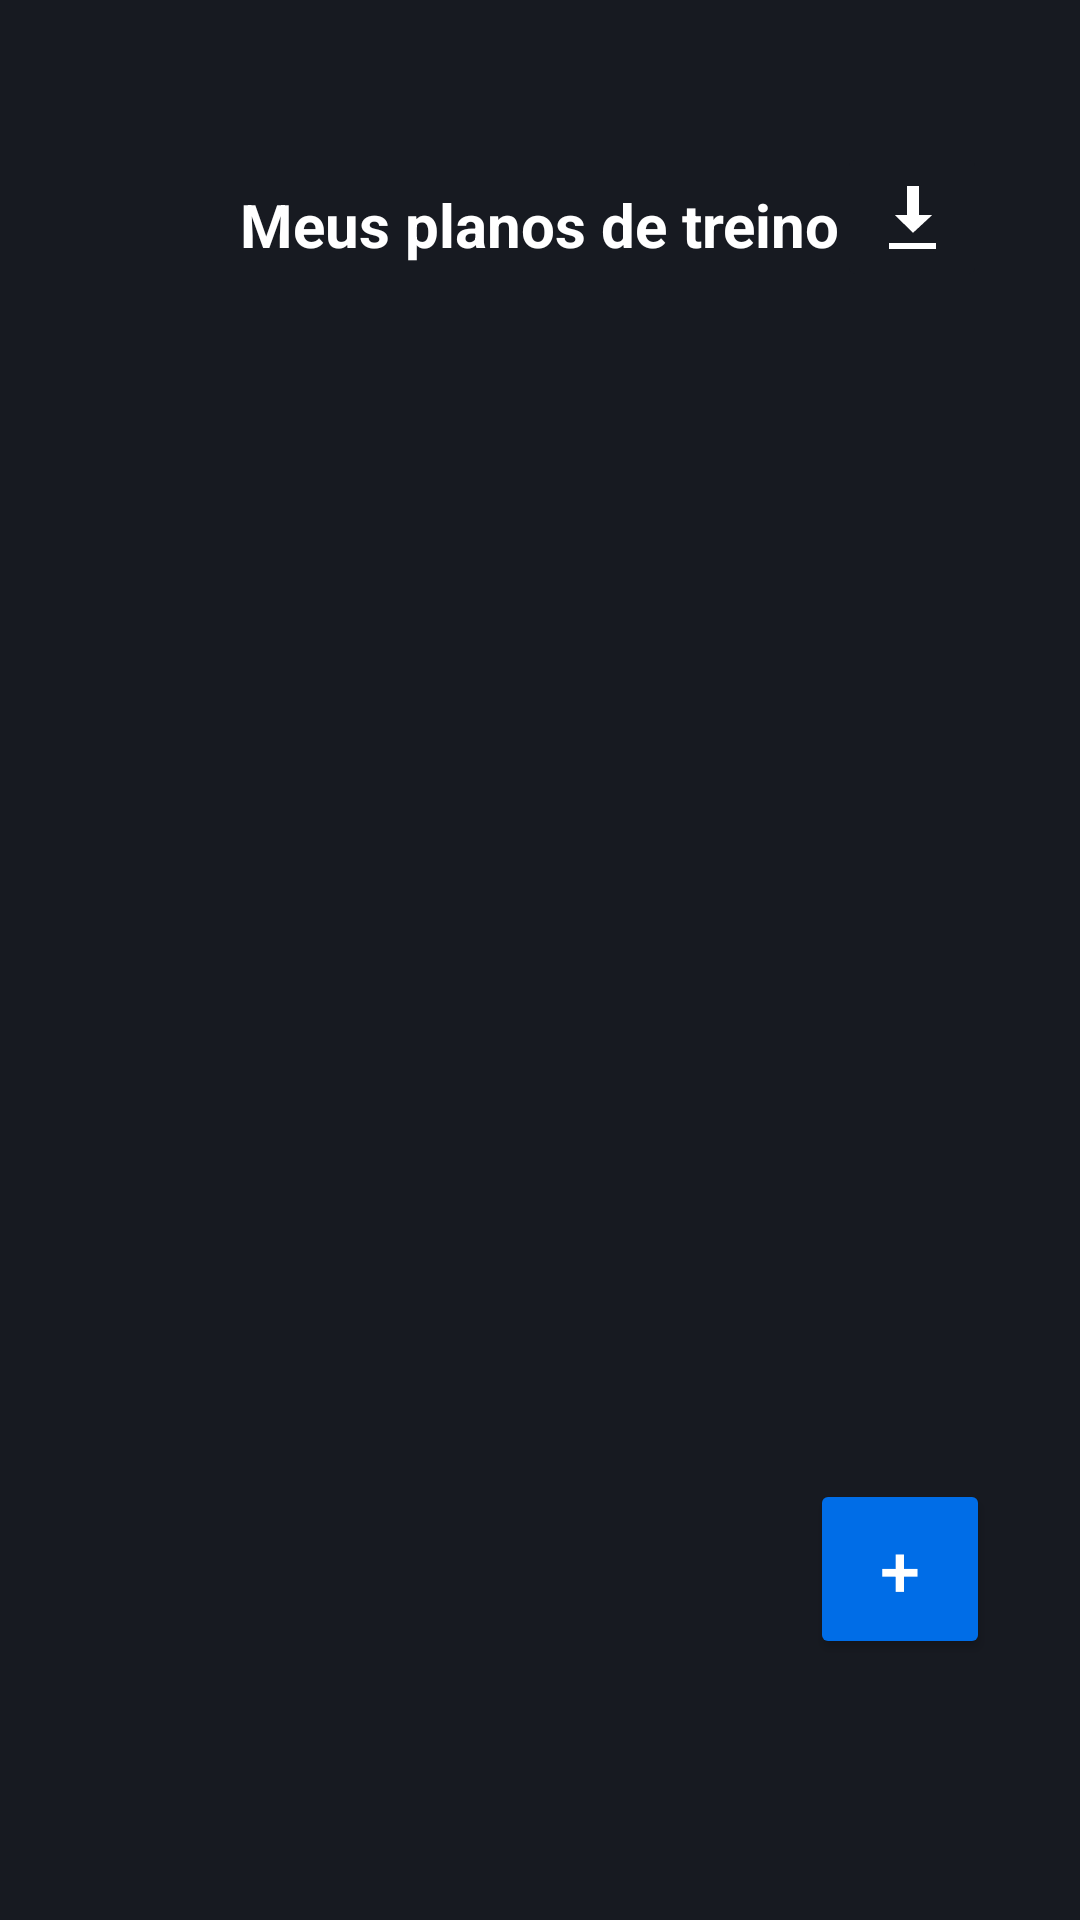

Icons on this 1080 x 1920 Android screen, each with the point to tap as (x=x, y=y):
Importar Plano: (x=912, y=217)
